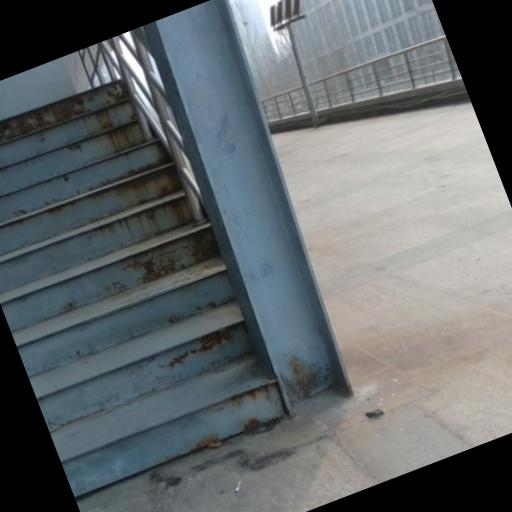stairs: (0, 83, 283, 497)
